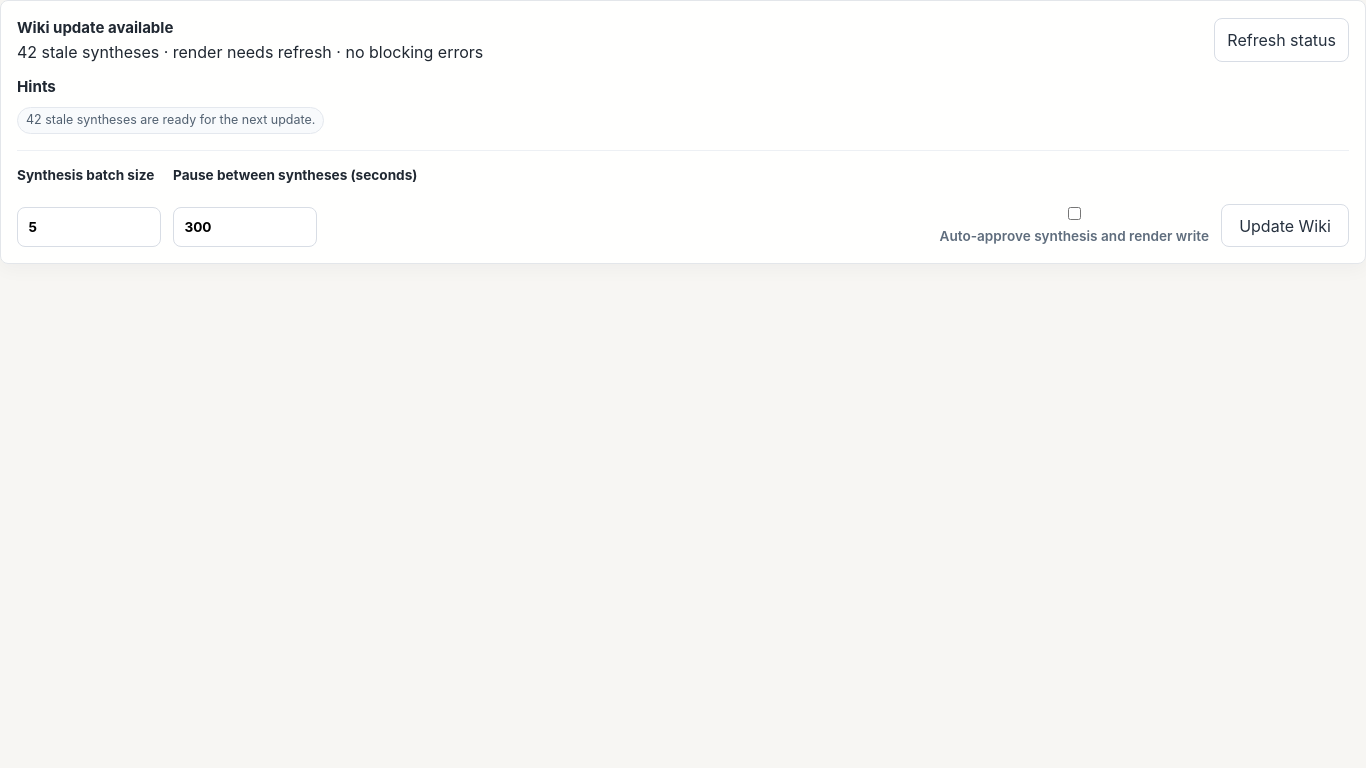
it: UpdateWikiPanel › renders inline synthesis confirmation on the waiting step
Click the button "Update Wiki": x=1285, y=226 top-left (1221, 204), bottom-right (1349, 247)
(page scrolled)
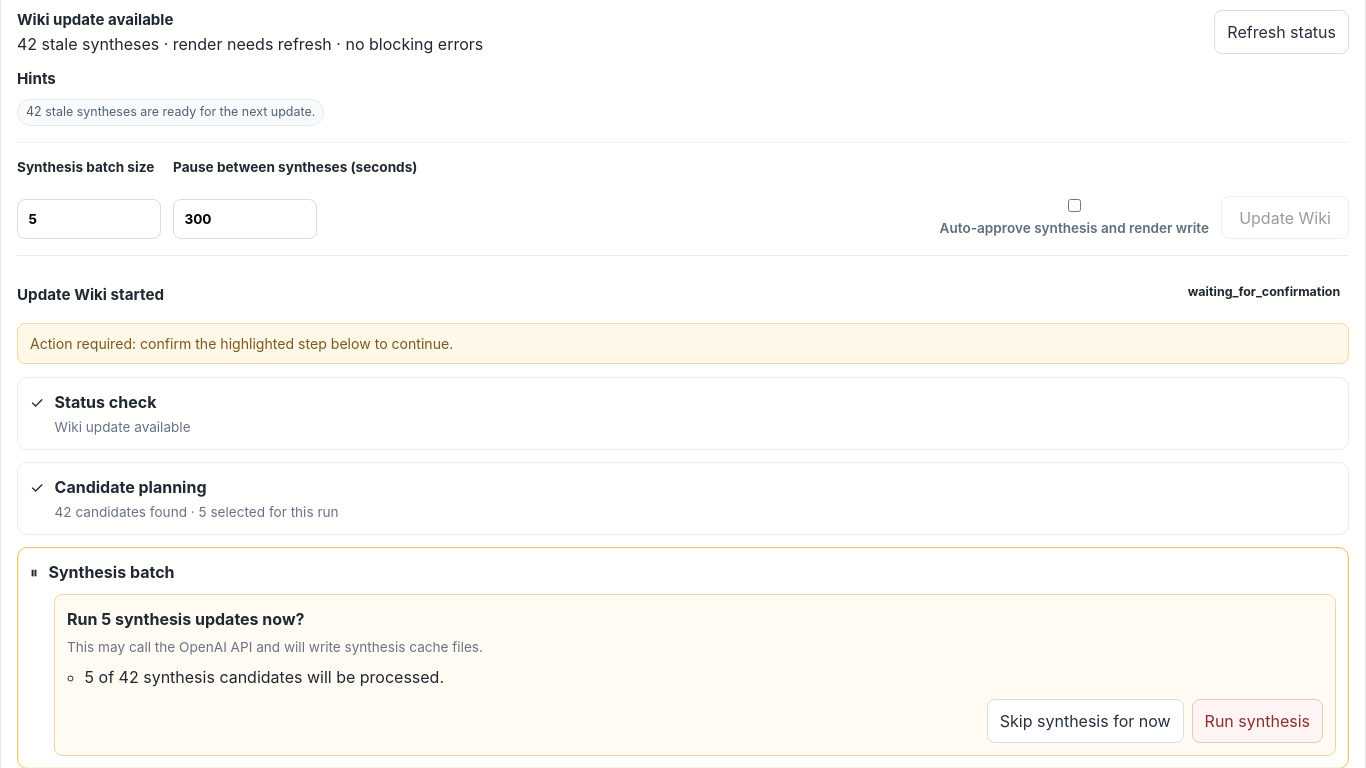
Result: the text "Action required: confirm the highlighted step below to continue." is shown at top-left (17, 323), bottom-right (1349, 364)
Result: the text "Synthesis batch" is shown at top-left (48, 562), bottom-right (174, 582)
Result: the button "Run synthesis" is shown at top-left (1192, 699), bottom-right (1323, 743)
